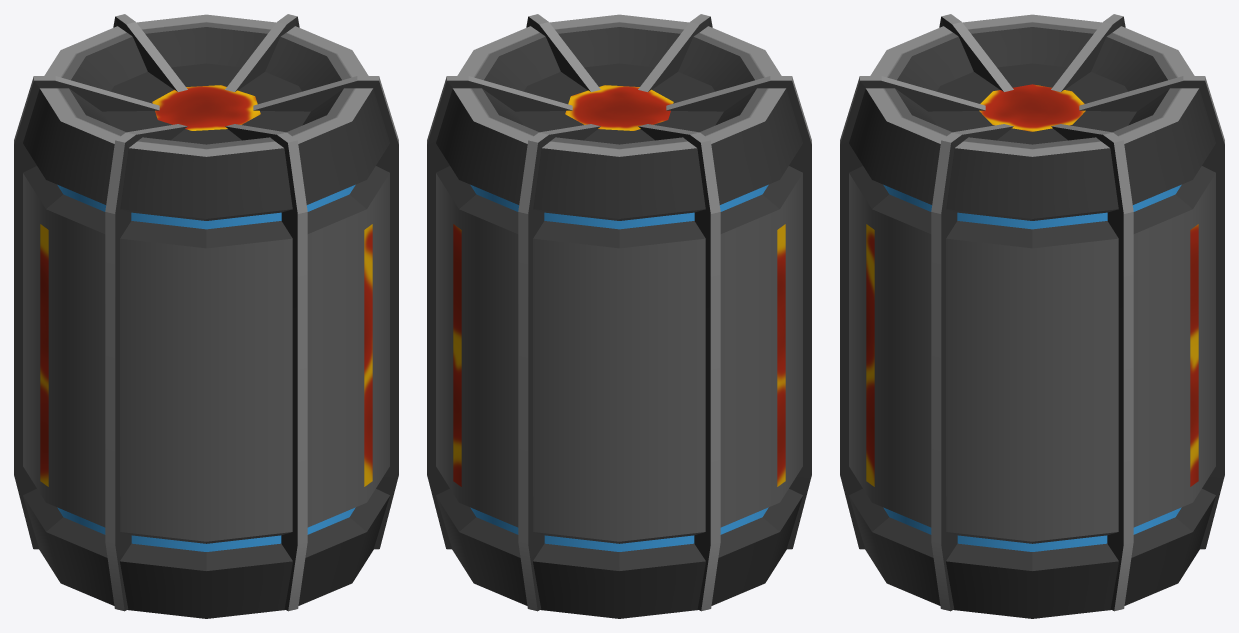
The model's file is Large_Barrel_SciFi.fbx.
The picture shows the model from 3 angles, left to right: view 1: azimuth 30°, elevation 25°; view 2: azimuth 150°, elevation 25°; view 3: azimuth 270°, elevation 25°; orthographic projection.
Parts seen in each view (by area): view 1: Large_Barrel_SciFi; view 2: Large_Barrel_SciFi; view 3: Large_Barrel_SciFi.
Boxes of the visible parts, box(x1,y1,x2,y2) form: Large_Barrel_SciFi: box(14, 14, 398, 618); Large_Barrel_SciFi: box(427, 14, 811, 618); Large_Barrel_SciFi: box(840, 14, 1224, 618).
Bounding box in the file's own units: 138 × 192 × 143.
